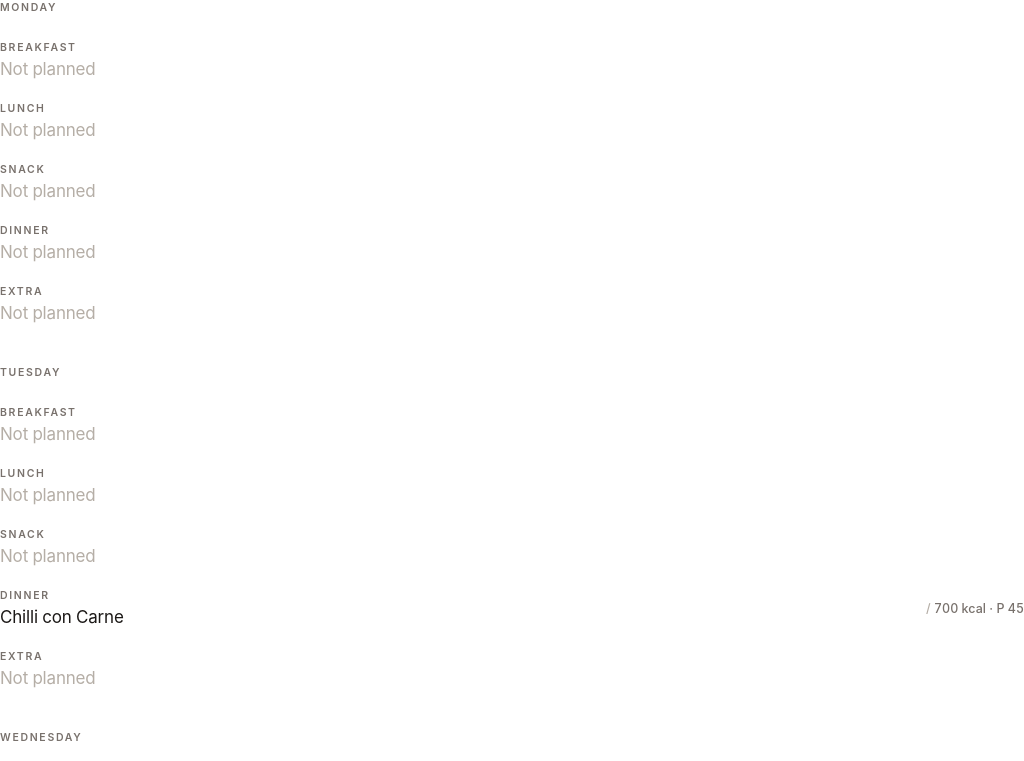
distinct from swapping › the confirm names the blast radius, and does not say Swap
This screenshot has width=1024, height=761.
Click the button "Dinner Chilli con Carne / 700 kcal · P 45".
click(25, 596)  # box [0,578,1023,639]
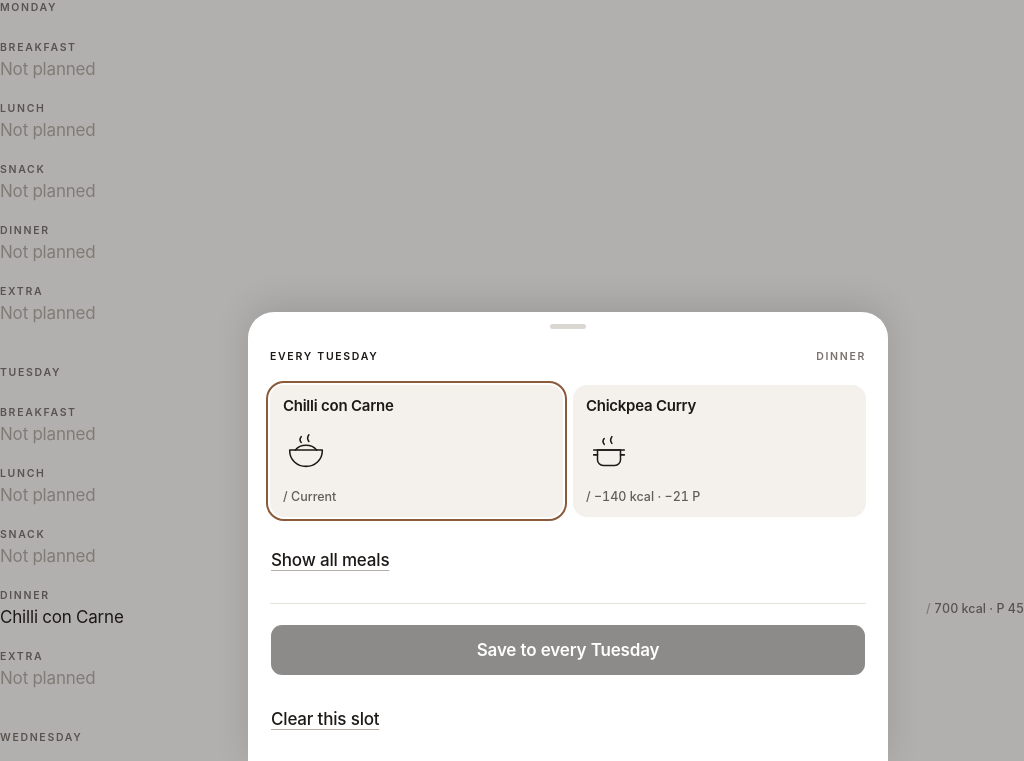
Expected: the button "Save to every Tuesday" is shown, [270,624,866,676]
